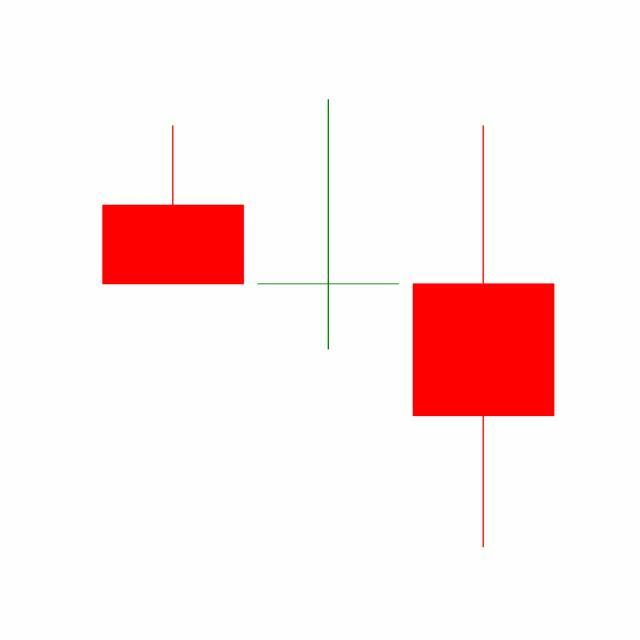Spinning Top: (250, 96, 407, 353)
